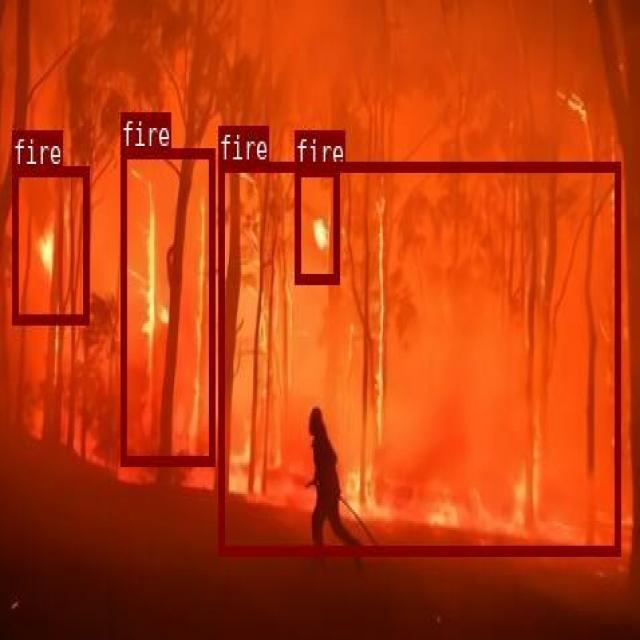fire: (218, 161, 619, 554), (120, 147, 214, 463), (11, 166, 87, 322), (295, 164, 339, 282)
